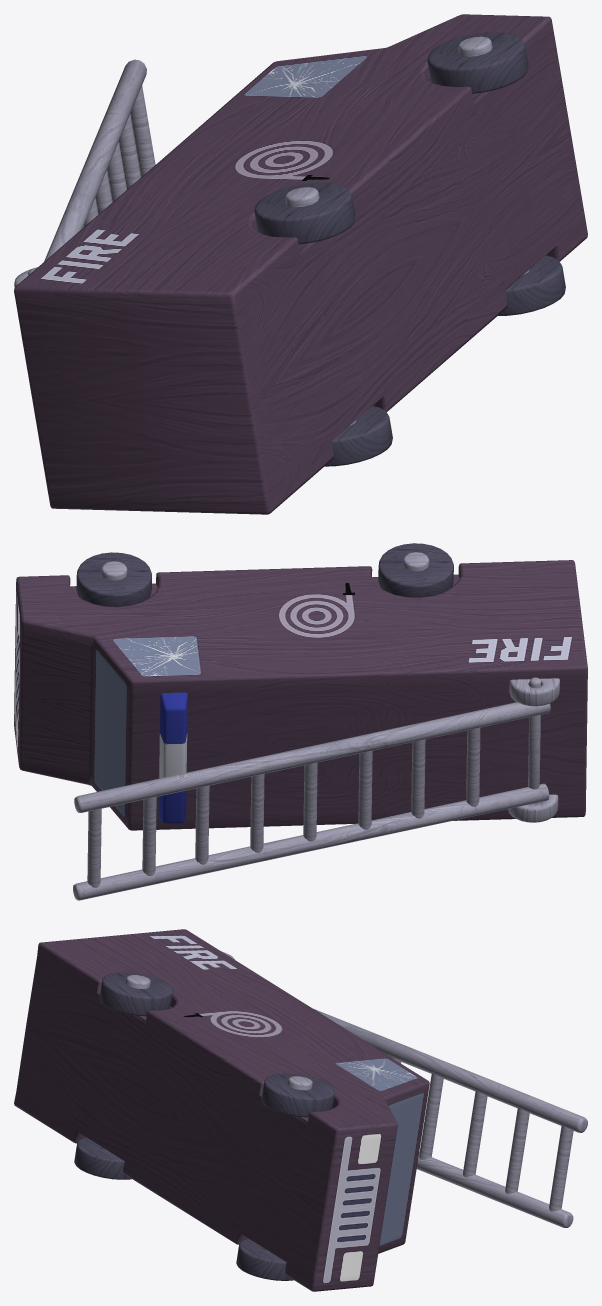
Rendered from Firetruck.glb.
The picture shows the model from 3 angles, top to bottom: view 1: azimuth 30°, elevation 25°; view 2: azimuth 150°, elevation 25°; view 3: azimuth 270°, elevation 25°; orthographic projection. The views are drawn at different scales.
Visible parts, largest first — view 1: Firetruck.001; view 2: Firetruck.001; view 3: Firetruck.001.
Boxes of the visible parts, <box> form: Firetruck.001: <box>14,14,587,514</box>; Firetruck.001: <box>14,543,587,900</box>; Firetruck.001: <box>14,929,587,1291</box>.
Size of the model in its own units: 5.88 by 2.31 by 6.05.
1 material, 1 textured.
